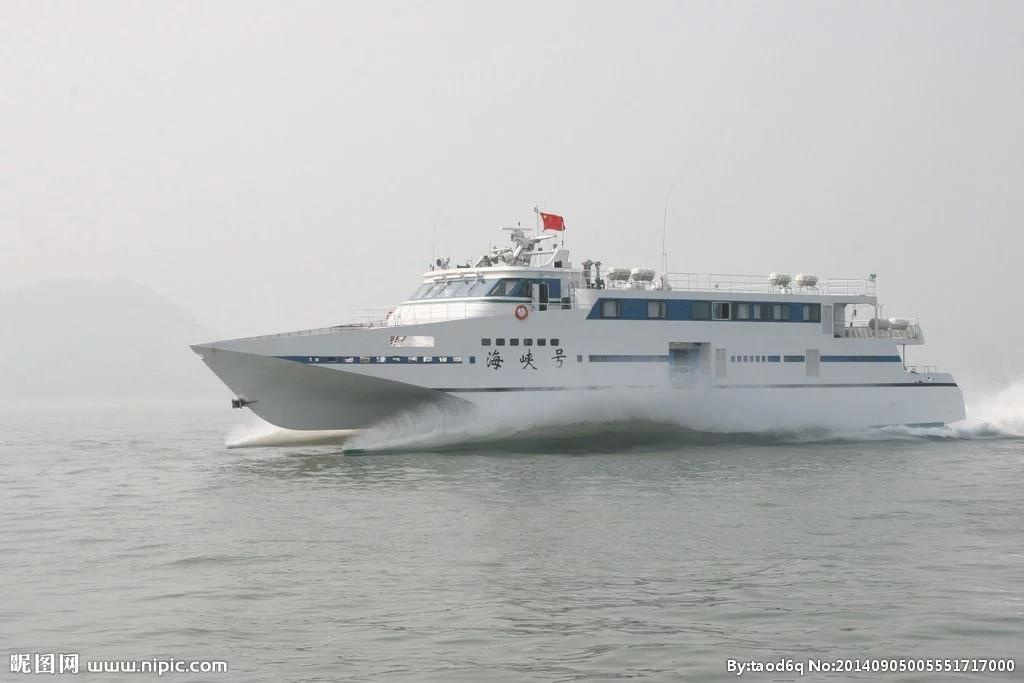yacht: (185, 205, 970, 451)
